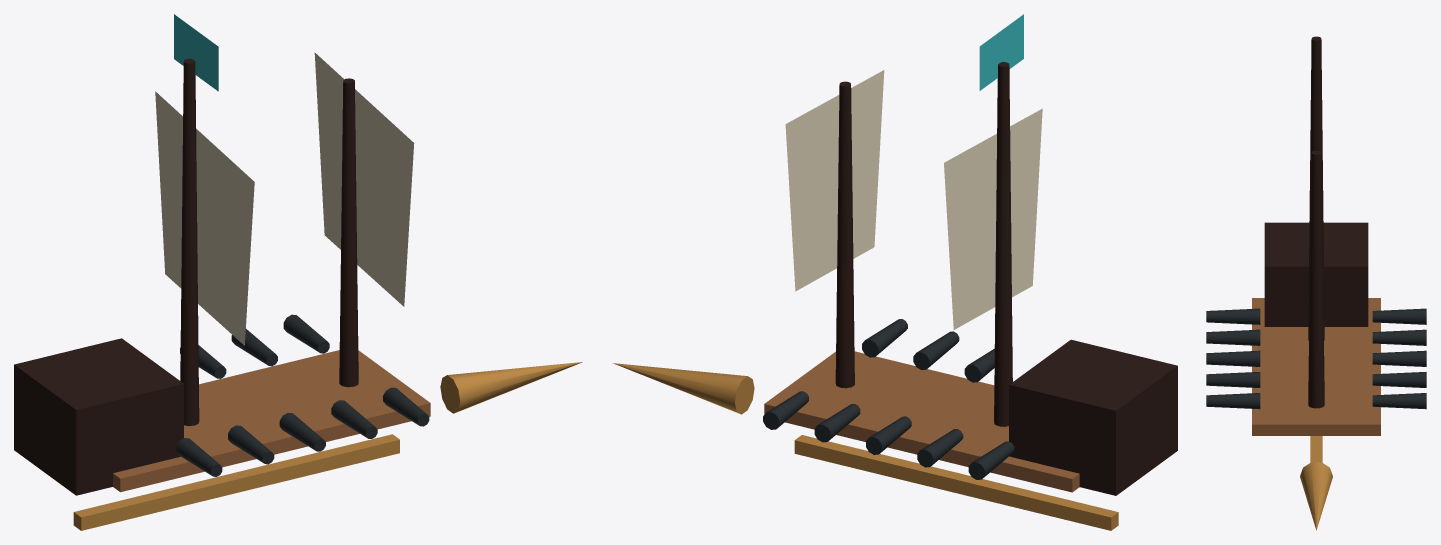
Rendered from sovereign-frigate-lod0.glb.
3 renders of one model, left to right at view 1: azimuth 30°, elevation 25°; view 2: azimuth 150°, elevation 25°; view 3: azimuth 270°, elevation 25°, orthographic. The views are drawn at different scales.
Visible parts, largest first — view 1: stern, deck, sail_2, sail_1, keel, mast_1, mast_2, bow, flag, cannon_port_2, cannon_starboard_5, cannon_port_1 (+4 smaller); view 2: stern, deck, sail_2, sail_1, keel, mast_1, mast_2, bow, flag, cannon_starboard_4, cannon_starboard_1, cannon_port_4 (+4 smaller); view 3: deck, stern, mast_2, mast_1, bow, cannon_port_1, cannon_port_2, cannon_starboard_1, cannon_starboard_2, cannon_starboard_3, cannon_starboard_5, cannon_port_3 (+4 smaller).
Part boxes in pixels (left/top/right/bottom): stern: left=14, top=338, right=183, bottom=495; deck: left=113, top=350, right=430, bottom=492; sail_2: left=314, top=52, right=414, bottom=306; sail_1: left=155, top=91, right=254, bottom=345; keel: left=73, top=434, right=399, bottom=530; mast_1: left=180, top=58, right=199, bottom=425; mast_2: left=339, top=78, right=358, bottom=387; bow: left=440, top=362, right=582, bottom=413; flag: left=174, top=14, right=218, bottom=91; cannon_port_2: left=228, top=425, right=274, bottom=464; cannon_starboard_5: left=283, top=314, right=329, bottom=353; cannon_port_1: left=176, top=438, right=222, bottom=476; stern: left=1009, top=339, right=1177, bottom=495; deck: left=764, top=351, right=1079, bottom=492; sail_2: left=785, top=70, right=884, bottom=291; sail_1: left=944, top=108, right=1042, bottom=329; keel: left=794, top=435, right=1118, bottom=530; mast_1: left=994, top=62, right=1012, bottom=426; mast_2: left=835, top=81, right=854, bottom=388; bow: left=612, top=363, right=754, bottom=414; flag: left=979, top=14, right=1023, bottom=90; cannon_starboard_4: left=814, top=403, right=860, bottom=442; cannon_starboard_1: left=968, top=441, right=1014, bottom=479; cannon_port_4: left=913, top=331, right=959, bottom=369; deck: left=1252, top=298, right=1380, bottom=435; stern: left=1264, top=222, right=1368, bottom=326; mast_2: left=1308, top=150, right=1324, bottom=408; mast_1: left=1308, top=36, right=1324, bottom=340; bow: left=1300, top=462, right=1332, bottom=530; cannon_port_1: left=1206, top=308, right=1260, bottom=324; cannon_port_2: left=1206, top=329, right=1260, bottom=345; cannon_starboard_1: left=1372, top=308, right=1426, bottom=324; cannon_starboard_2: left=1372, top=329, right=1426, bottom=345; cannon_starboard_3: left=1372, top=350, right=1426, bottom=366; cannon_starboard_5: left=1372, top=393, right=1426, bottom=409; cannon_port_3: left=1206, top=350, right=1260, bottom=366.
Bounding box in the file's own units: 125 × 104 × 53.
